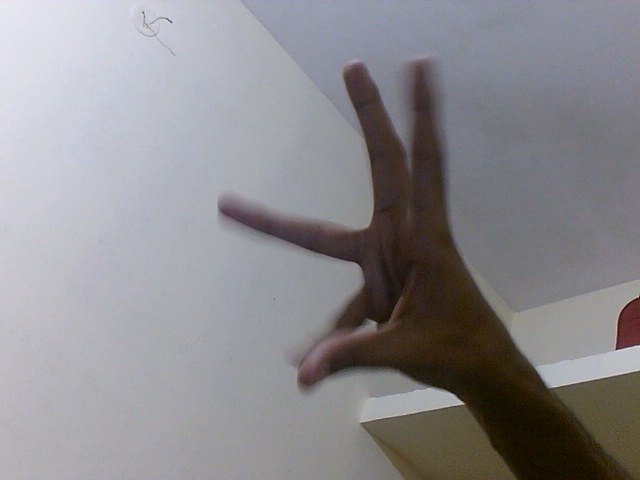hand: (214, 52, 514, 401)
